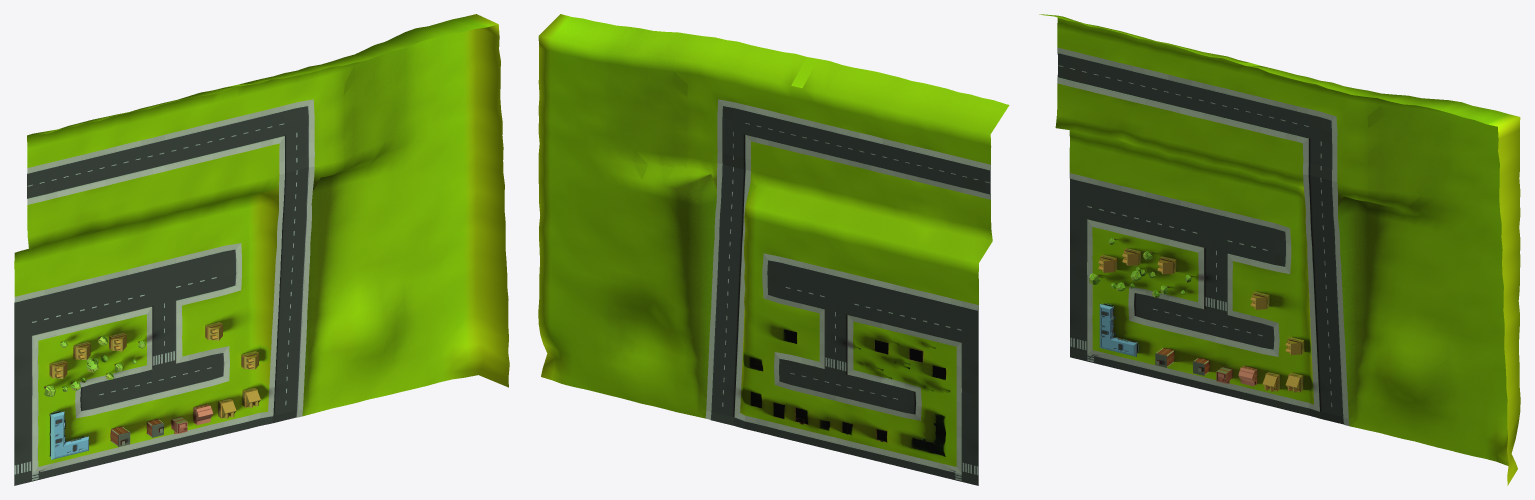
File: city-block-3.obj
3 renders of one model, left to right at view 1: azimuth 30°, elevation 25°; view 2: azimuth 150°, elevation 25°; view 3: azimuth 330°, elevation 25°, orthographic. The views are drawn at different scales.
Size of the model in its own units: 473 by 361 by 57.47.
